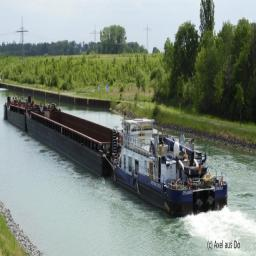tugboat: (110, 116, 230, 224)
